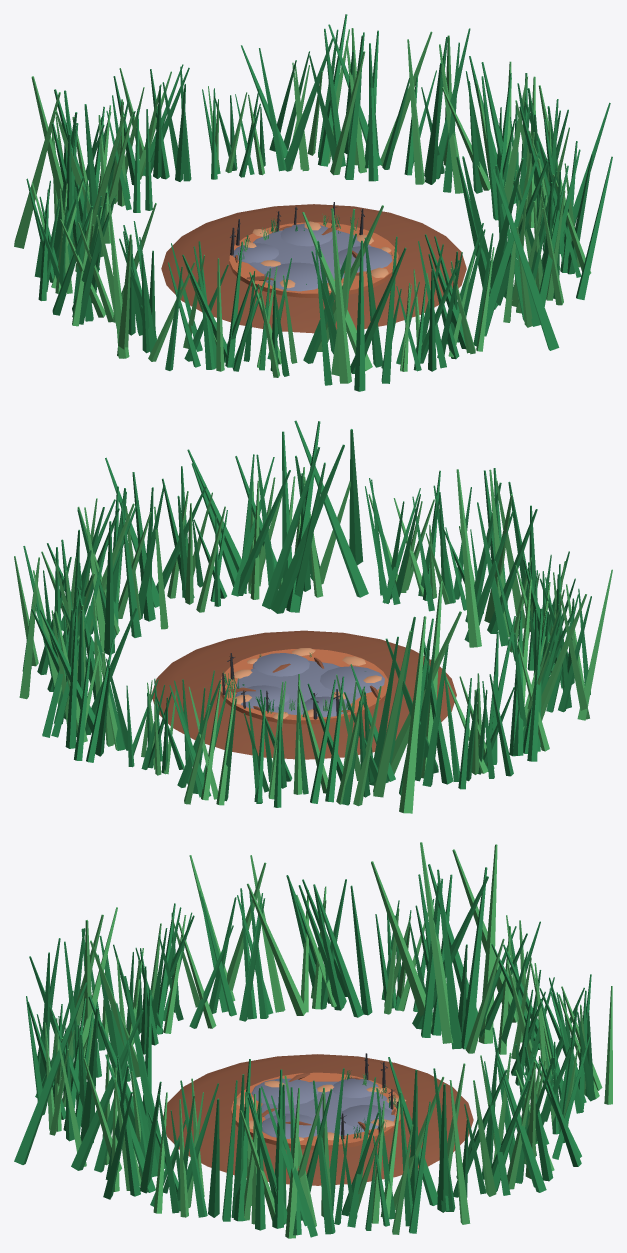
File: mire_snapper.glb
3 renders of one model, top to bottom at view 1: azimuth 30°, elevation 25°; view 2: azimuth 150°, elevation 25°; view 3: azimuth 270°, elevation 25°, orthographic. The views are drawn at different scales.
Visible parts, largest first — view 1: MireSnapperGround; view 2: MireSnapperGround; view 3: MireSnapperGround.
Boxes of the visible parts, x1,y1,x2,y2 form: MireSnapperGround: (14,14,612,391); MireSnapperGround: (14,420,612,813); MireSnapperGround: (14,842,612,1238).
Size of the model in its own units: 40.65 by 13.83 by 41.5.
1 material, 1 textured.
